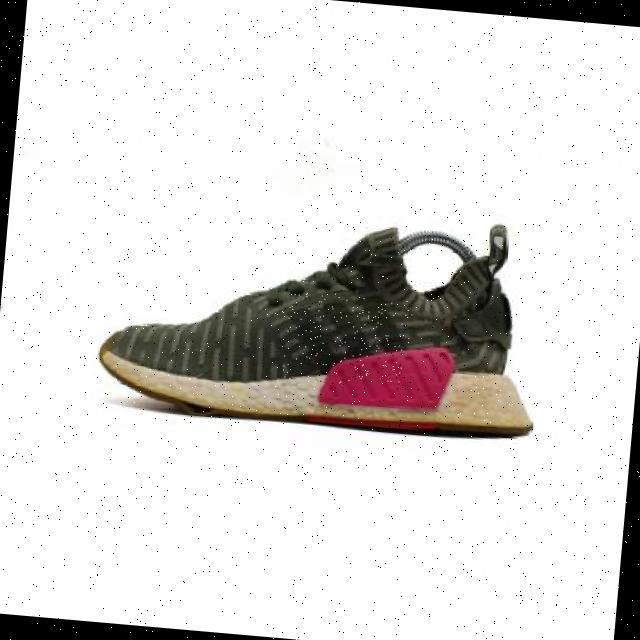Adidas: (283, 290, 414, 390)
